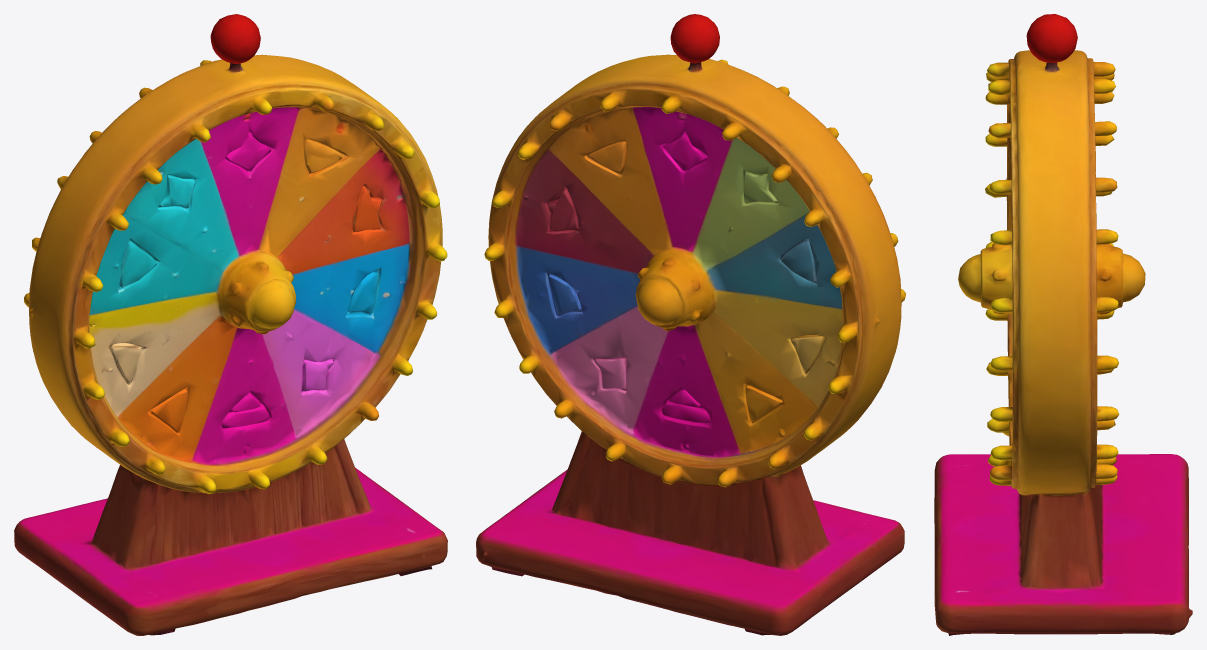
Rendered from spinner-wheel.glb.
The picture shows the model from 3 angles, left to right: view 1: azimuth 30°, elevation 25°; view 2: azimuth 150°, elevation 25°; view 3: azimuth 270°, elevation 25°; orthographic projection.
Visible parts, largest first — view 1: tripo_node_77cc263a-0668-4f33-bc31-1e17bb96d033; view 2: tripo_node_77cc263a-0668-4f33-bc31-1e17bb96d033; view 3: tripo_node_77cc263a-0668-4f33-bc31-1e17bb96d033.
Part boxes in pixels (left/top/right/bottom): tripo_node_77cc263a-0668-4f33-bc31-1e17bb96d033: left=14, top=14, right=447, bottom=635; tripo_node_77cc263a-0668-4f33-bc31-1e17bb96d033: left=476, top=14, right=905, bottom=635; tripo_node_77cc263a-0668-4f33-bc31-1e17bb96d033: left=934, top=14, right=1192, bottom=635.
Size of the model in its own units: 0.7375 by 1 by 0.4246.
1 material, 1 textured.
